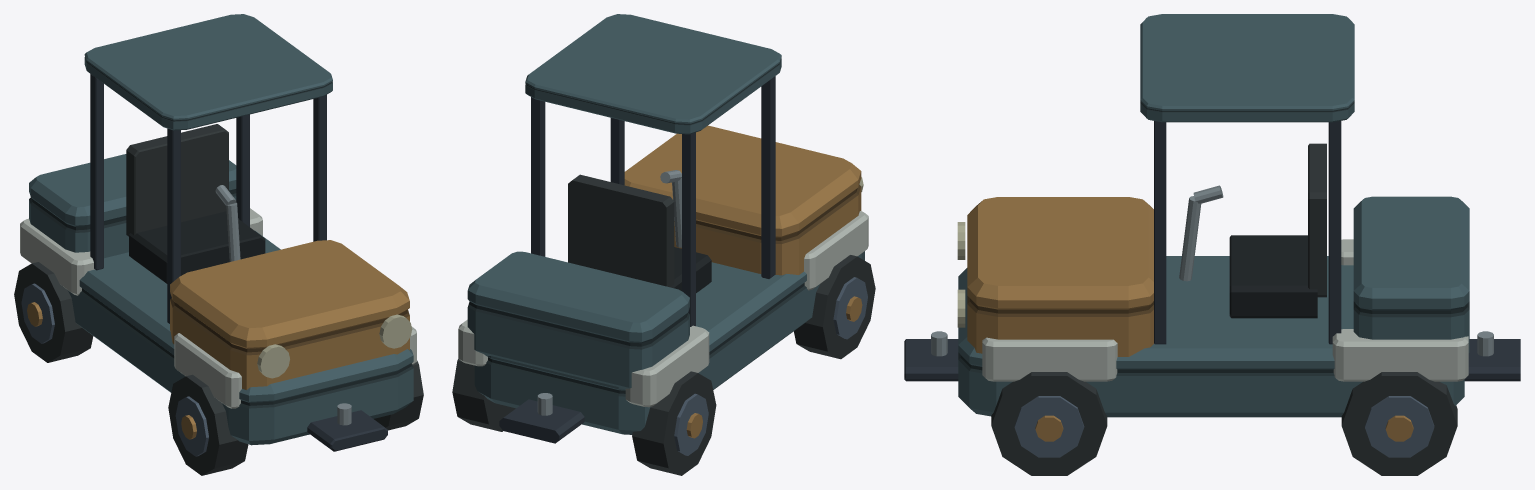
The model's file is HM-05_tow_tractor.glb.
3 renders of one model, left to right at view 1: azimuth 30°, elevation 25°; view 2: azimuth 150°, elevation 25°; view 3: azimuth 270°, elevation 25°, orthographic. The views are drawn at different scales.
Visible parts, largest first — view 1: HM-05_tow_tractor; view 2: HM-05_tow_tractor; view 3: HM-05_tow_tractor.
Part boxes in pixels (x1,y1,x2,y2): HM-05_tow_tractor: [14, 14, 423, 475]; HM-05_tow_tractor: [452, 14, 875, 475]; HM-05_tow_tractor: [904, 14, 1520, 475].
Size of the model in its own units: 1.43 by 1.98 by 3.08.
